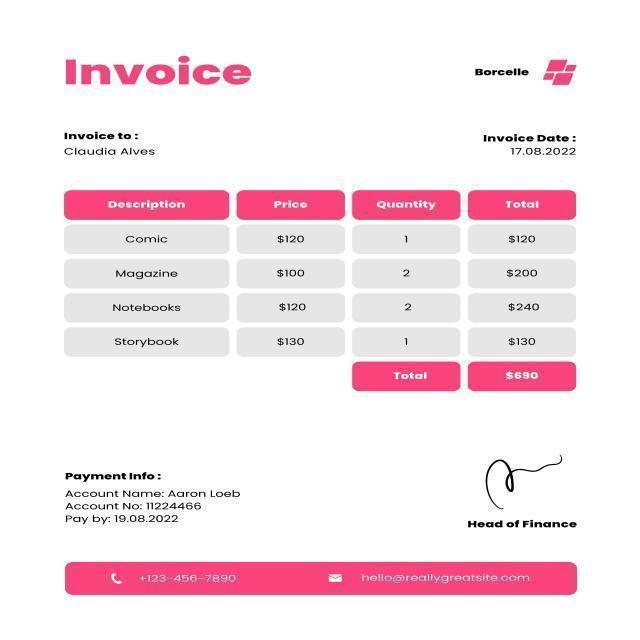paragraph: (62, 181, 598, 351), (54, 447, 267, 530), (444, 447, 606, 549), (54, 46, 256, 104), (359, 354, 568, 409), (311, 551, 541, 597), (88, 559, 261, 602), (51, 119, 174, 169), (468, 121, 595, 166), (471, 53, 532, 91), (538, 52, 582, 98)
